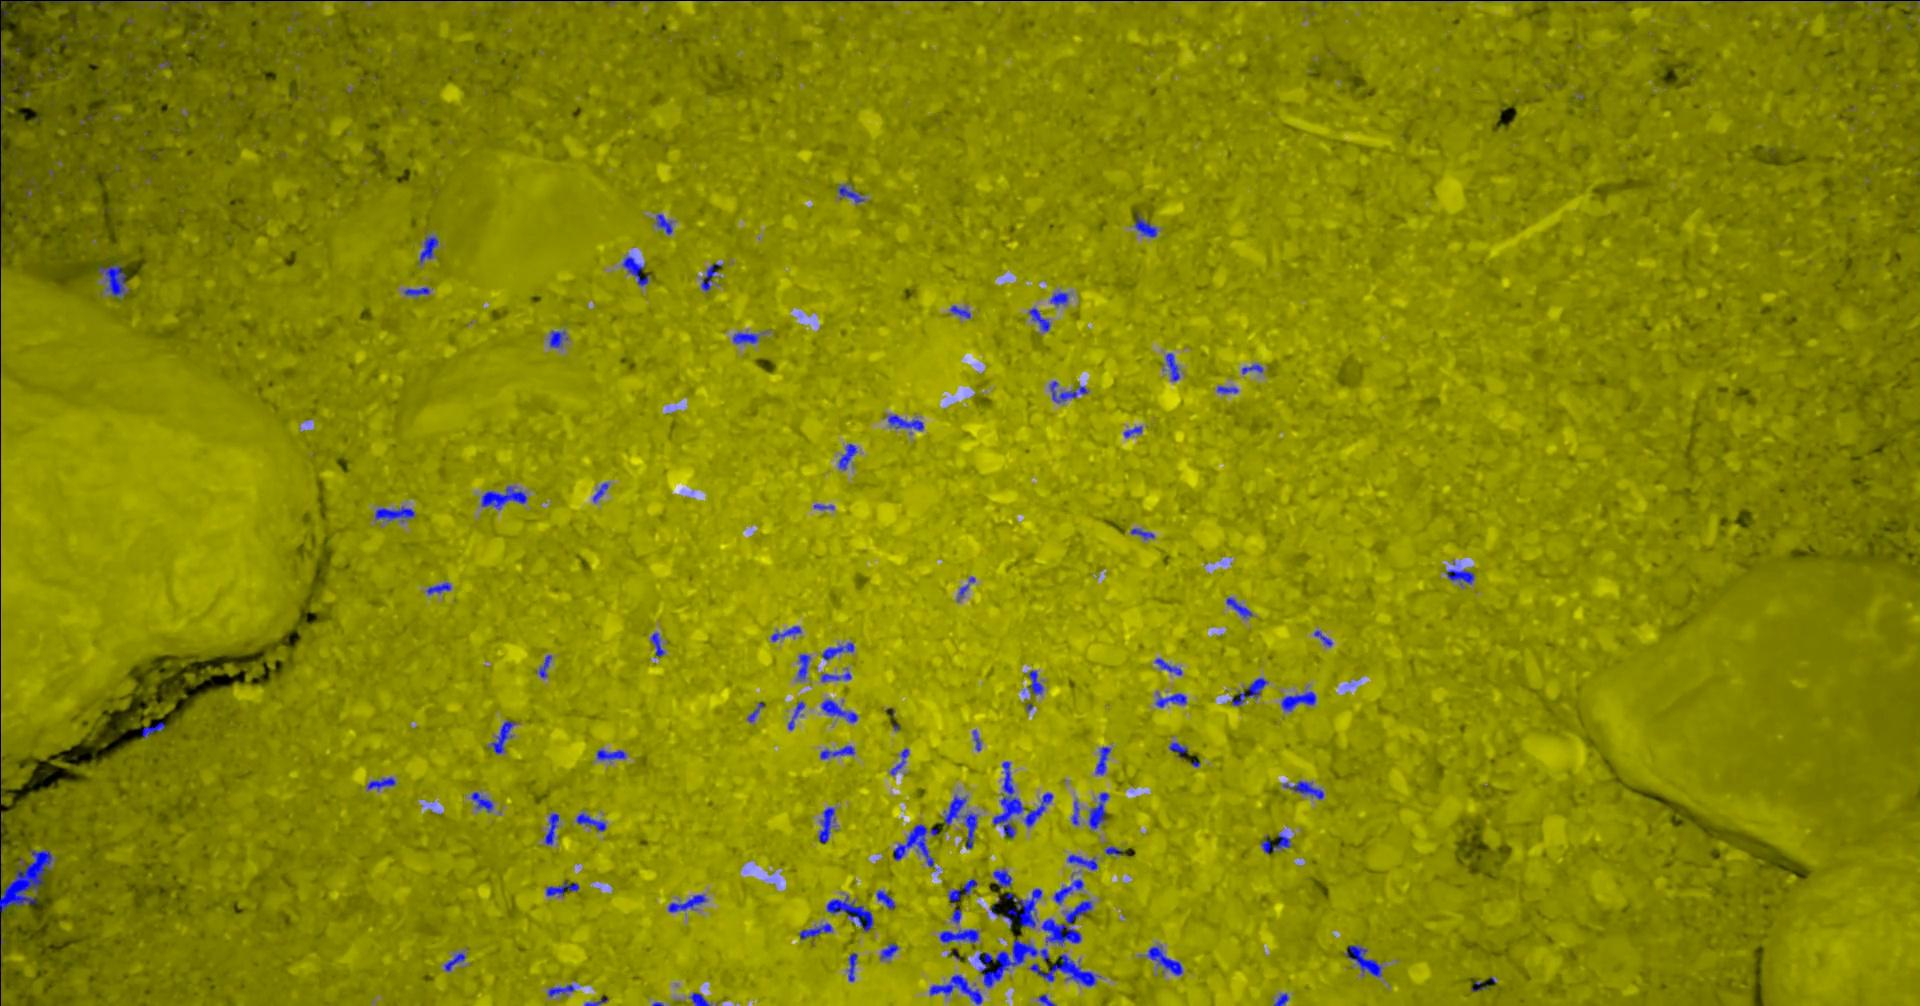ant: (979, 937, 1051, 987), (994, 761, 1026, 838), (1031, 953, 1102, 986), (1043, 901, 1095, 945), (992, 888, 1043, 927), (895, 823, 940, 866), (945, 795, 979, 848), (828, 894, 875, 931), (930, 974, 984, 1005), (1347, 944, 1383, 976), (483, 485, 528, 509), (99, 263, 130, 298), (163, 0, 282, 9), (1148, 946, 1183, 976), (1025, 793, 1054, 827), (1233, 677, 1269, 705), (1, 0, 156, 6), (489, 720, 517, 753), (623, 255, 651, 286), (822, 699, 858, 721), (1055, 878, 1084, 904), (1051, 381, 1090, 401), (1284, 780, 1324, 799), (1090, 793, 1110, 829), (949, 878, 978, 903), (889, 414, 924, 434), (669, 894, 709, 912), (1283, 691, 1317, 710), (376, 506, 417, 521), (577, 812, 608, 831), (823, 641, 856, 659), (820, 807, 837, 842), (1, 32, 8, 123), (1137, 212, 1159, 238), (702, 263, 723, 291), (800, 922, 834, 939), (1262, 835, 1291, 854), (941, 929, 980, 942), (1030, 307, 1051, 332), (1228, 597, 1253, 617), (839, 184, 866, 203), (891, 748, 910, 775), (772, 625, 803, 641), (547, 880, 580, 895), (789, 701, 806, 729), (1157, 692, 1189, 708), (1069, 854, 1098, 870), (822, 746, 856, 760), (422, 235, 439, 262), (1448, 569, 1476, 586), (1156, 658, 1183, 674), (841, 443, 858, 469), (472, 791, 494, 812), (444, 951, 467, 970), (1097, 746, 1112, 774), (546, 813, 560, 843), (822, 668, 853, 681), (1167, 352, 1181, 380), (370, 776, 397, 790), (877, 889, 897, 909), (1030, 669, 1045, 694), (142, 721, 166, 737), (994, 868, 1013, 887), (657, 213, 674, 234), (537, 654, 552, 677), (1316, 629, 1335, 647), (799, 653, 811, 680), (881, 942, 900, 960), (651, 633, 665, 655), (549, 984, 577, 996), (550, 330, 569, 347), (1170, 742, 1189, 758), (594, 481, 610, 502), (749, 701, 764, 721), (598, 749, 629, 760), (428, 582, 452, 594), (734, 332, 759, 343), (690, 992, 712, 1005), (1051, 291, 1070, 305), (850, 951, 858, 981), (951, 305, 971, 318), (1131, 528, 1156, 539), (1243, 363, 1263, 373), (1125, 426, 1143, 437), (1040, 993, 1058, 1005), (405, 287, 430, 295), (1106, 846, 1128, 855), (1073, 800, 1081, 824), (1275, 993, 1290, 1005), (1218, 385, 1239, 392), (952, 908, 963, 923)
